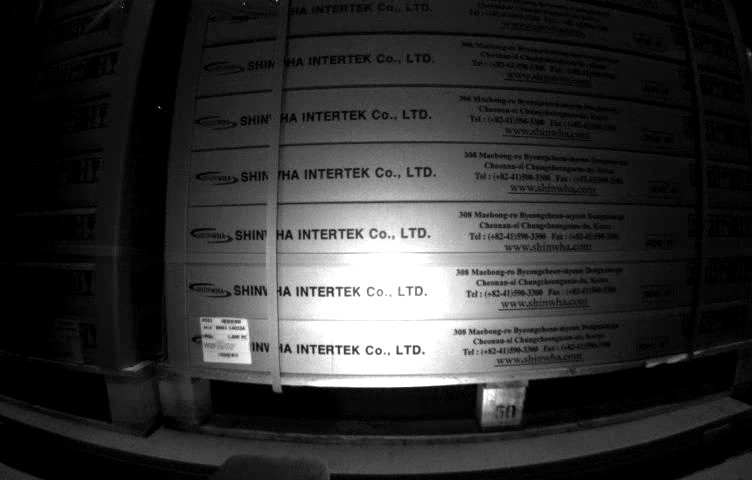True Barcode: (200, 315, 253, 363)
